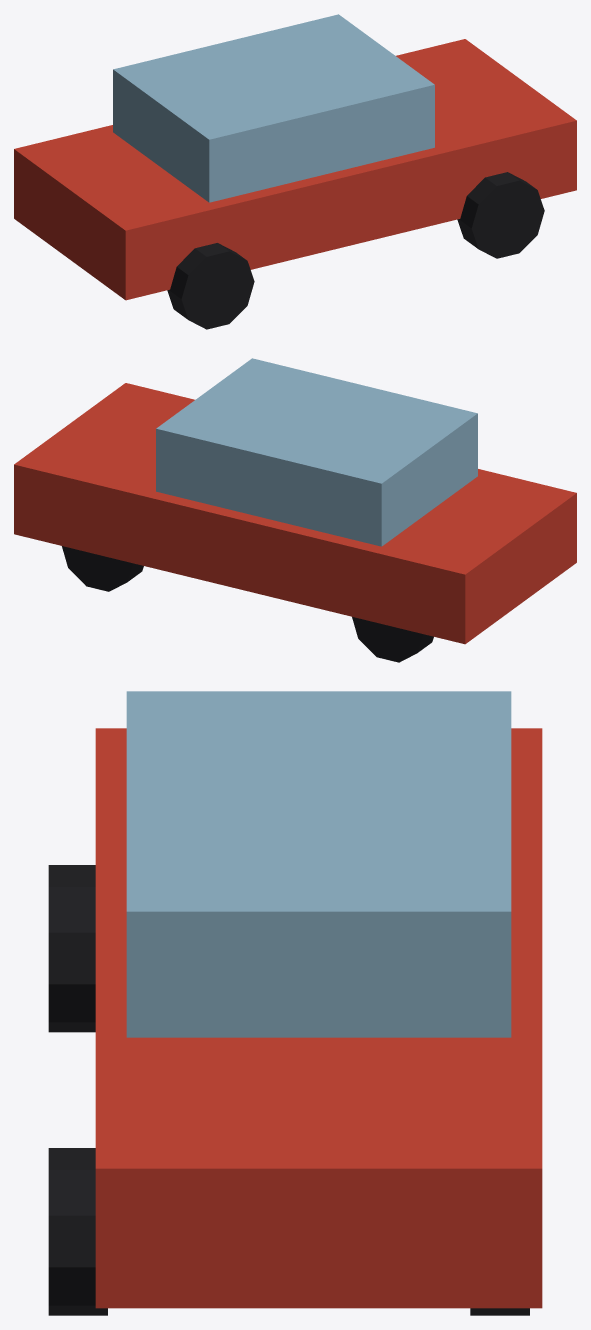
The model's file is car.glb.
3 views of the same model, one above another, from view 1: azimuth 30°, elevation 25°; view 2: azimuth 150°, elevation 25°; view 3: azimuth 270°, elevation 25° (orthographic). The views are drawn at different scales.
Parts seen in each view (by area): view 1: body, cabin, wheel-fl, wheel-rl; view 2: body, cabin, wheel-fr, wheel-rr; view 3: body, cabin, wheel-fl, wheel-rl.
Part boxes in pixels (x1,y1,x2,y2): body: (14, 39, 576, 300); cabin: (113, 14, 434, 202); wheel-fl: (457, 172, 544, 258); wheel-rl: (167, 243, 254, 329); body: (14, 383, 576, 644); cabin: (156, 358, 477, 546); wheel-fr: (62, 546, 143, 591); wheel-rr: (352, 617, 433, 662); body: (95, 728, 542, 1308); cabin: (126, 691, 511, 1037); wheel-fl: (48, 1148, 107, 1315); wheel-rl: (48, 865, 95, 1032).
Bounding box in the file's own units: 4.2 × 1.51 × 1.99.
